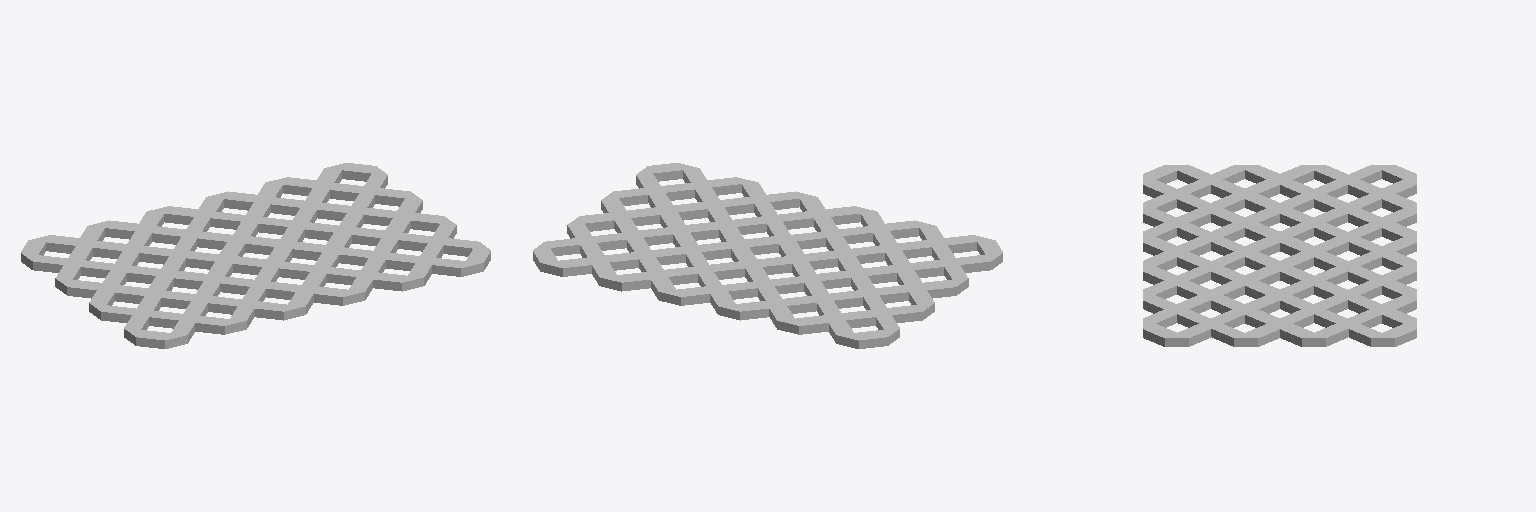
Rendered from paving-grass_lightgrey.obj.
3 views of the same model, side by side, from view 1: azimuth 30°, elevation 25°; view 2: azimuth 150°, elevation 25°; view 3: azimuth 270°, elevation 25° (orthographic).
Visible parts, largest first — view 1: Mesh11 Group3 Group1 Model, Mesh31 Group5 Group1 Model, Mesh1 Group2 Group1 Model, Mesh21 Group4 Group1 Model; view 2: Mesh1 Group2 Group1 Model, Mesh21 Group4 Group1 Model, Mesh11 Group3 Group1 Model, Mesh31 Group5 Group1 Model; view 3: Mesh21 Group4 Group1 Model, Mesh31 Group5 Group1 Model, Mesh1 Group2 Group1 Model, Mesh11 Group3 Group1 Model.
Part boxes in pixels (left/top/right/bottom): Mesh11 Group3 Group1 Model: left=89, top=256, right=313, bottom=348; Mesh31 Group5 Group1 Model: left=267, top=213, right=490, bottom=305; Mesh1 Group2 Group1 Model: left=21, top=206, right=244, bottom=298; Mesh21 Group4 Group1 Model: left=198, top=163, right=422, bottom=254; Mesh1 Group2 Group1 Model: left=710, top=256, right=934, bottom=348; Mesh21 Group4 Group1 Model: left=533, top=213, right=756, bottom=305; Mesh11 Group3 Group1 Model: left=779, top=206, right=1002, bottom=298; Mesh31 Group5 Group1 Model: left=601, top=163, right=825, bottom=254; Mesh21 Group4 Group1 Model: left=1280, top=252, right=1416, bottom=346; Mesh31 Group5 Group1 Model: left=1143, top=252, right=1279, bottom=346; Mesh1 Group2 Group1 Model: left=1280, top=165, right=1416, bottom=255; Mesh11 Group3 Group1 Model: left=1143, top=165, right=1279, bottom=255.
Bounding box in the file's own units: 4178 × 98.68 × 2789.